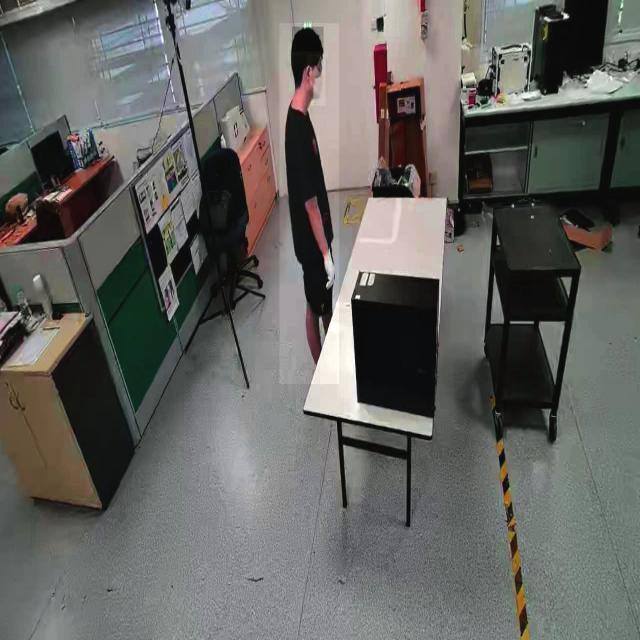face_mask: (306, 54, 326, 107)
hand_glove: (318, 246, 336, 302)
head_nohelmet: (292, 27, 324, 52)
person: (279, 23, 339, 385)
